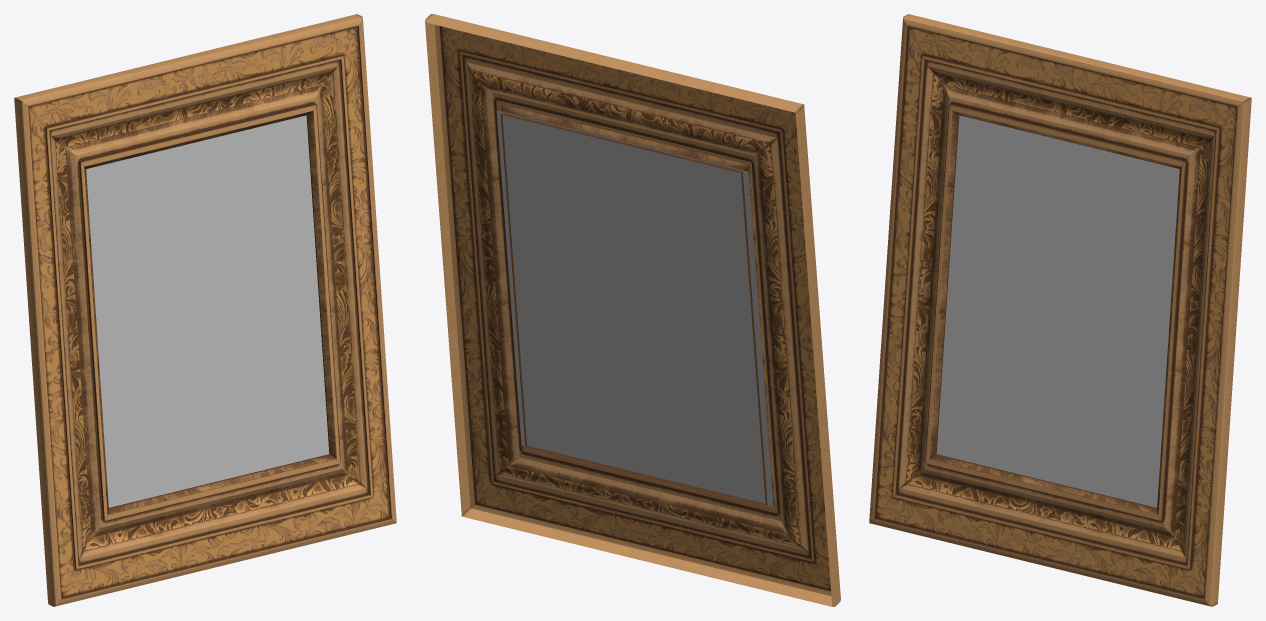
The picture shows the model from 3 angles, left to right: view 1: azimuth 30°, elevation 25°; view 2: azimuth 150°, elevation 25°; view 3: azimuth 330°, elevation 25°; orthographic projection. The views are drawn at different scales.
Parts seen in each view (by area): view 1: frame, painting; view 2: frame, painting; view 3: frame, painting.
Part boxes in pixels (x1,y1,x2,y2): frame: (14,14,396,606); painting: (86,115,329,507); frame: (425,14,840,606); painting: (496,110,773,506); frame: (869,14,1251,606); painting: (936,115,1179,507).
Size of the model in its own units: 0.2517 by 0.3386 by 0.0536.
